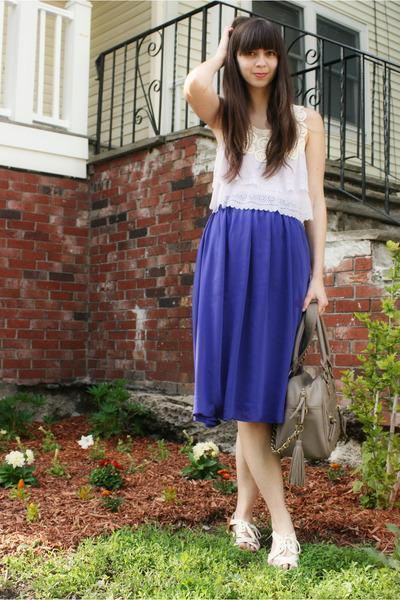bag: (281, 300, 354, 456)
shirt: (208, 133, 312, 222)
shoe: (230, 516, 306, 569)
skirt: (191, 205, 314, 443)
